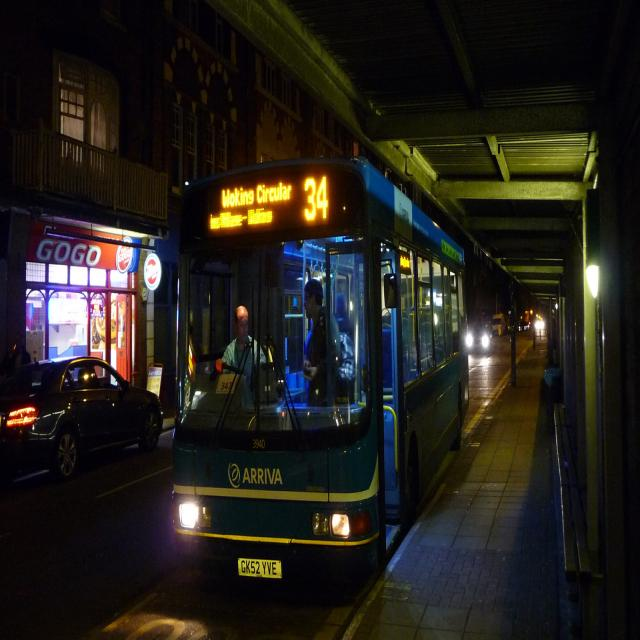Bus: (160, 172, 473, 611)
People: (302, 261, 350, 412), (232, 293, 261, 400)
car: (0, 338, 163, 505), (512, 294, 552, 358), (480, 291, 507, 351), (460, 311, 489, 365)
chair: (544, 384, 603, 633)
